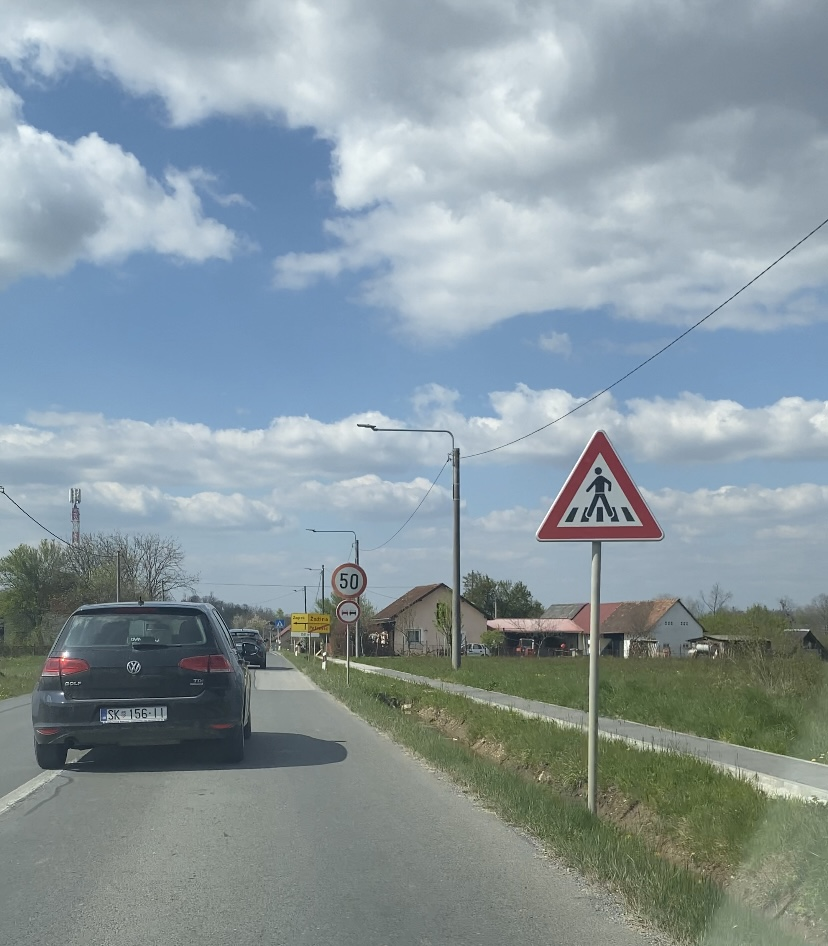Ograničenje brzine 50: (330, 563, 368, 598)
Približavanje pješačkom prijelazu: (535, 429, 664, 541)
Zabrana pretjecanja: (335, 599, 361, 624)
